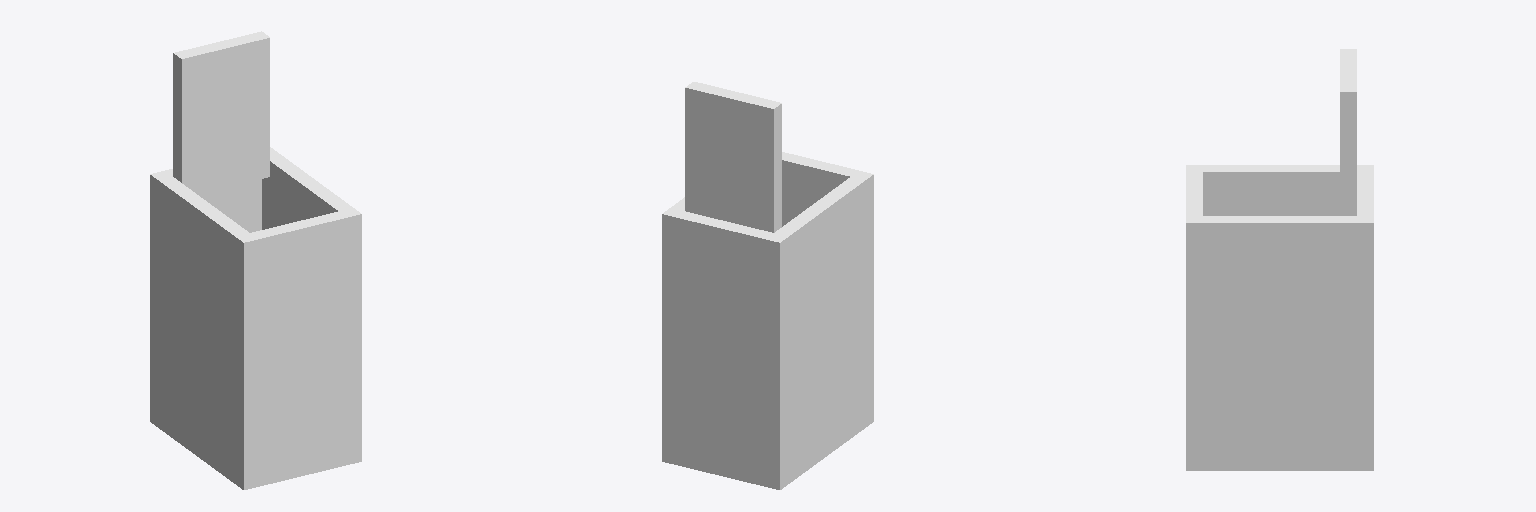
The model's file is dustbox1.obj.
3 renders of one model, left to right at view 1: azimuth 30°, elevation 25°; view 2: azimuth 150°, elevation 25°; view 3: azimuth 270°, elevation 25°, orthographic.
Visible parts, largest first — view 1: object 1; view 2: object 1; view 3: object 1.
Boxes of the visible parts, <box> form: object 1: <box>150,31,361,489</box>; object 1: <box>662,82,873,489</box>; object 1: <box>1186,49,1373,470</box>.
Bounding box in the file's own units: 0.8 × 2.4 × 1.1.